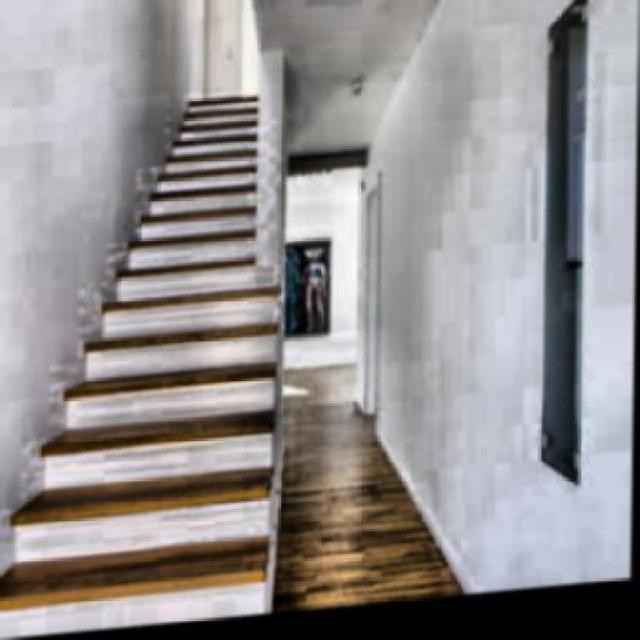stair: (62, 92, 276, 603)
